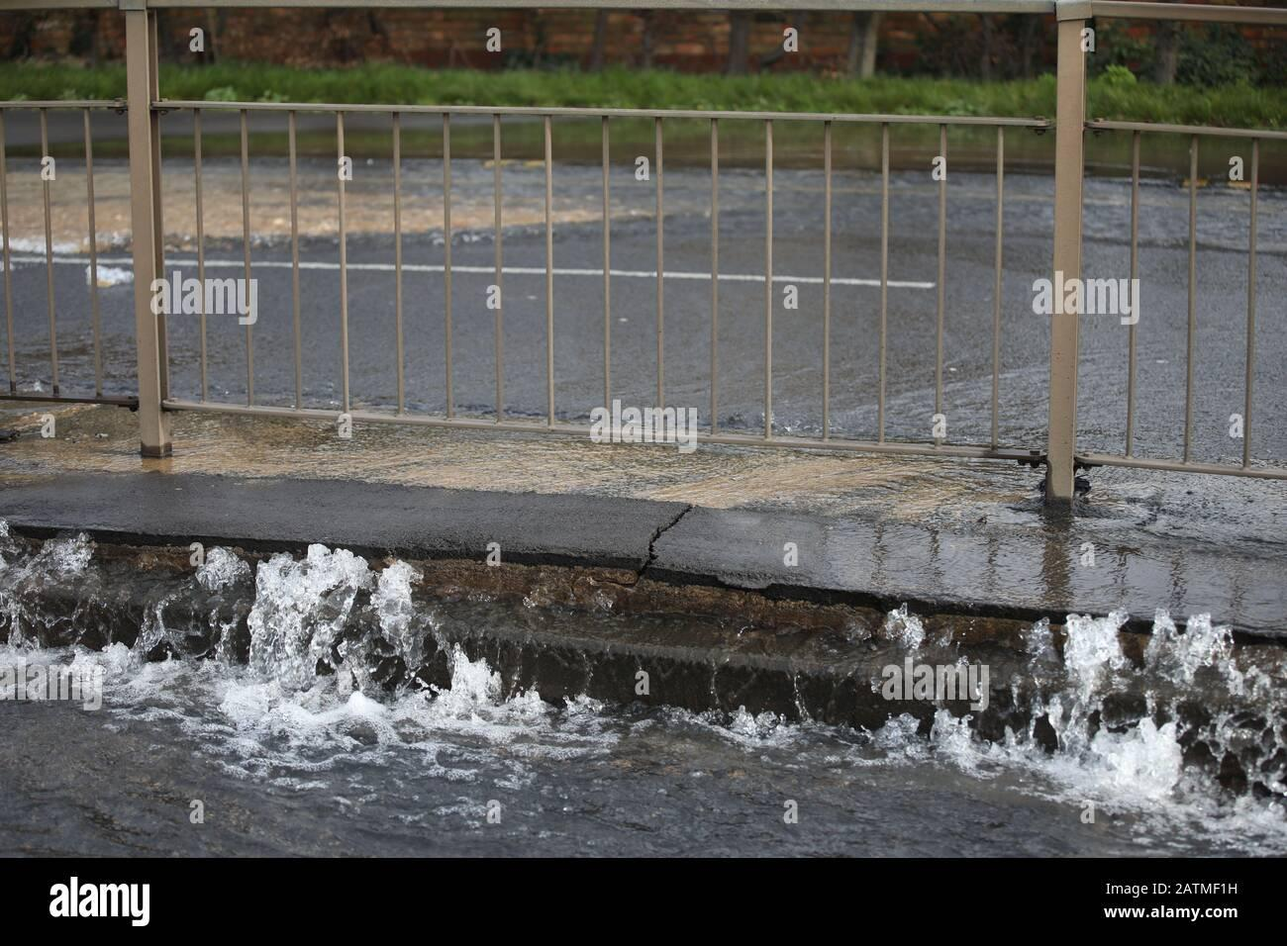water_leak: (2, 520, 1284, 856)
